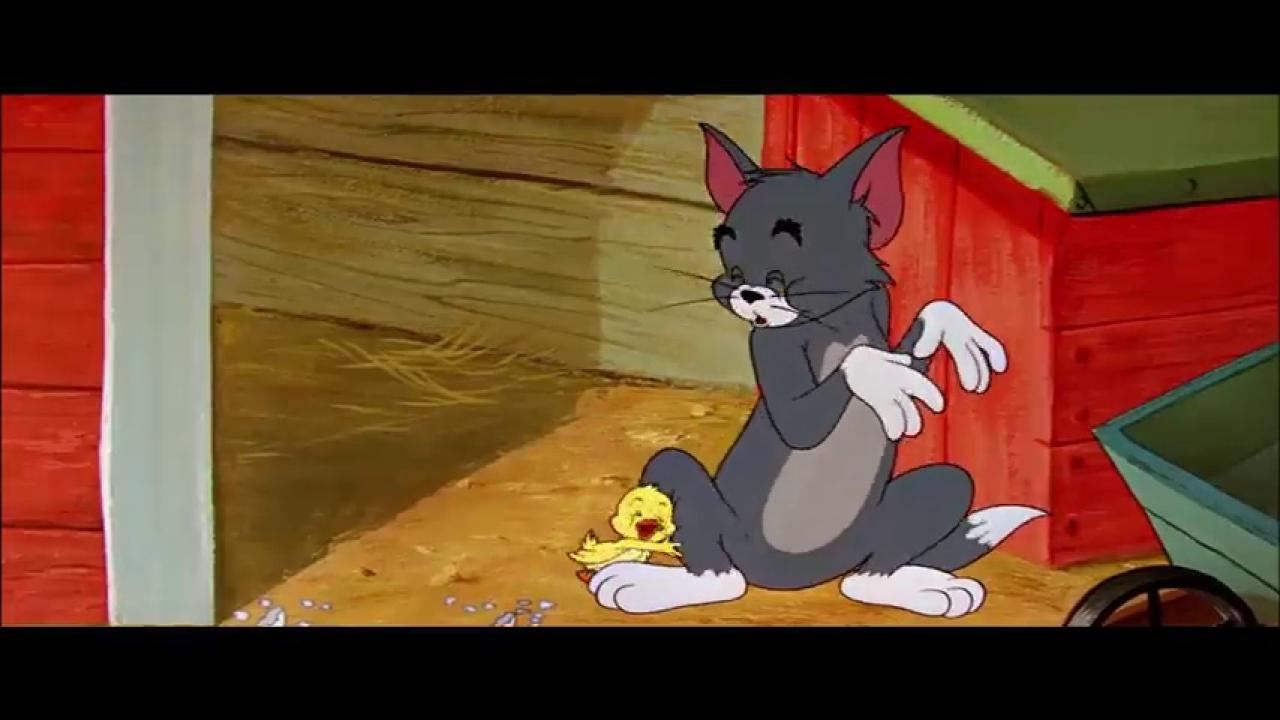Tom: (586, 120, 1053, 616)
